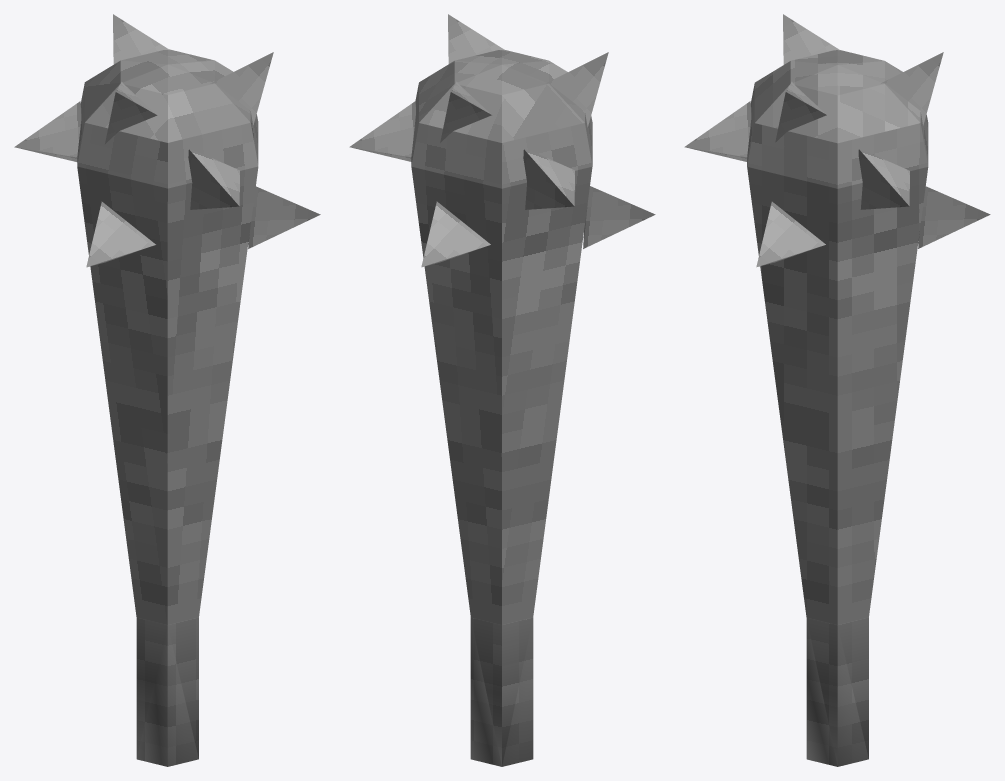
Rendered from StoneClub.glb.
3 renders of one model, left to right at view 1: azimuth 30°, elevation 25°; view 2: azimuth 150°, elevation 25°; view 3: azimuth 270°, elevation 25°, orthographic.
Parts seen in each view (by area): view 1: Handle, Spikes; view 2: Handle, Spikes; view 3: Handle, Spikes.
Part boxes in pixels (x1,y1,x2,y2): Handle: (77,49,258,766); Spikes: (14,14,320,267); Handle: (411,50,592,766); Spikes: (349,14,655,267); Handle: (747,50,928,766); Spikes: (684,14,990,267).
Size of the model in its own units: 0.3447 by 0.9818 by 0.3904.
1 material, 1 textured.
